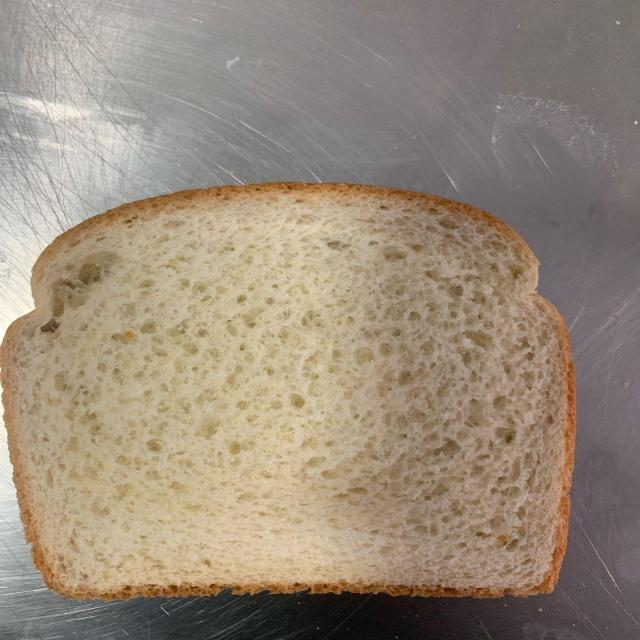pan: (1, 178, 575, 605)
